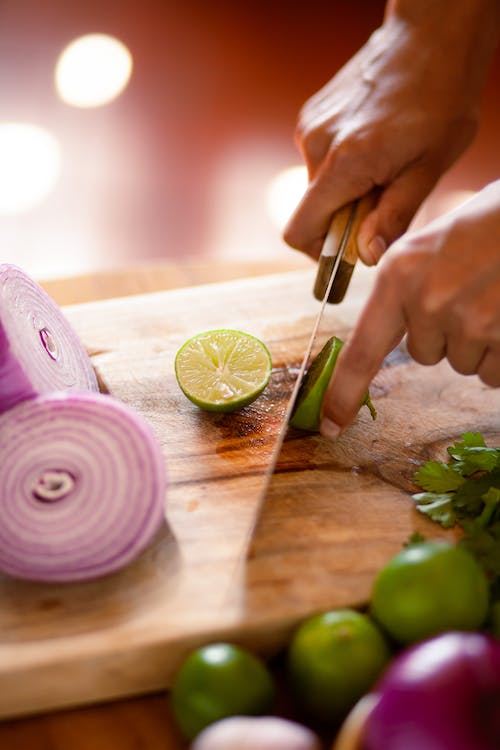knife: (220, 188, 375, 607)
